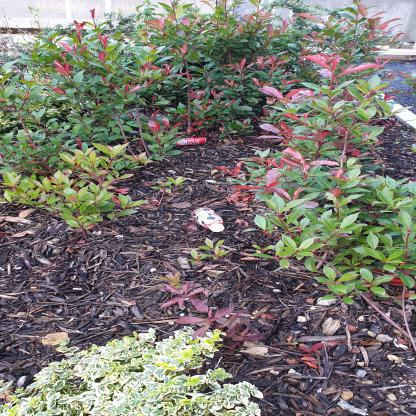plastik: (192, 209, 226, 233)
